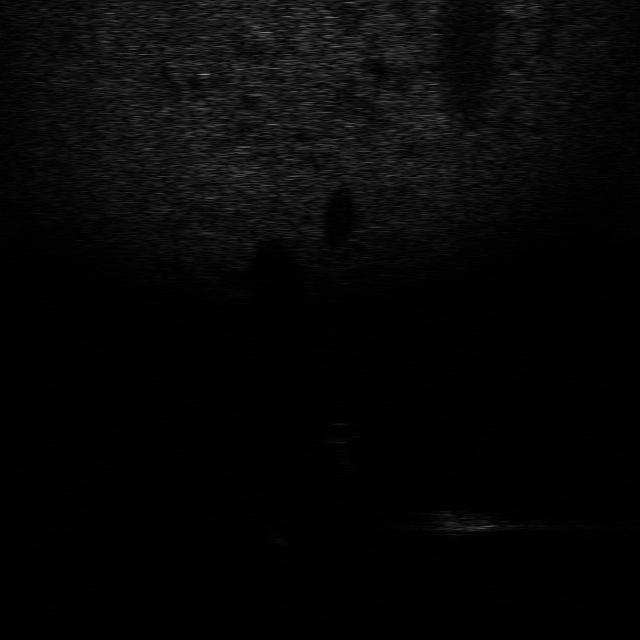ball: (316, 419, 365, 446)
metal bucket: (409, 504, 505, 535)
tyre: (249, 515, 301, 549)
